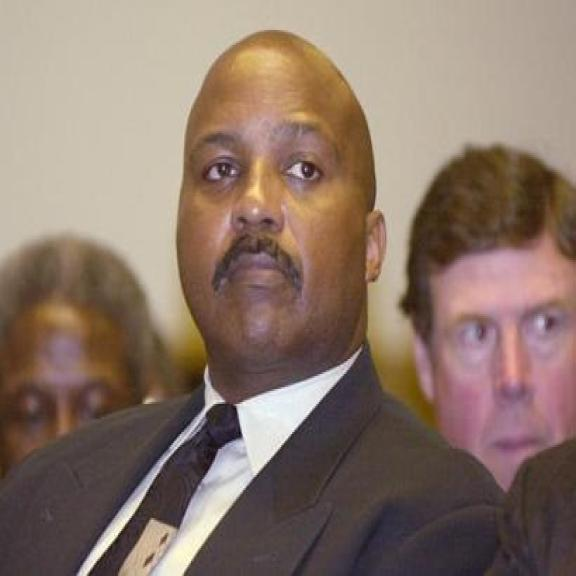face: (183, 70, 387, 372), (405, 230, 576, 487)
